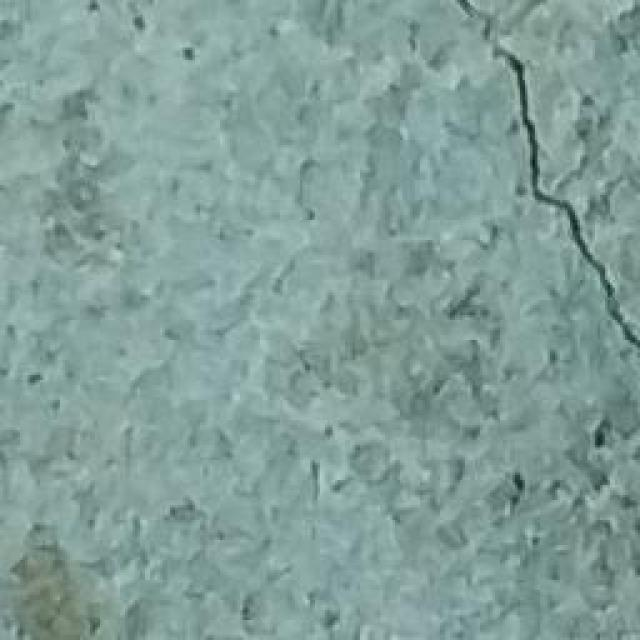Diagonal: (460, 0, 639, 433)
